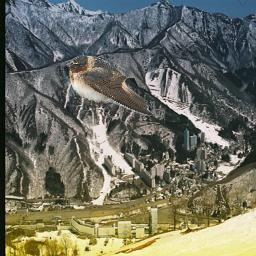Swallow: (66, 55, 155, 116)
